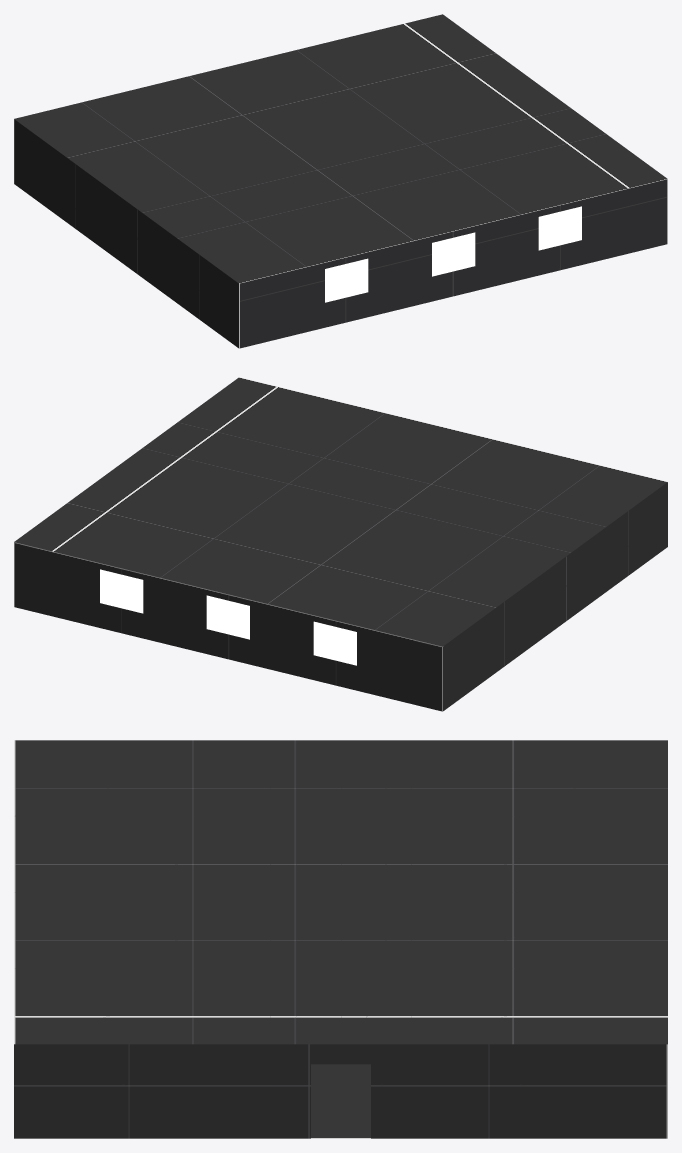
The model's file is nivel1.glb.
3 renders of one model, top to bottom at view 1: azimuth 30°, elevation 25°; view 2: azimuth 150°, elevation 25°; view 3: azimuth 270°, elevation 25°, orthographic. The views are drawn at different scales.
Parts seen in each view (by area): view 1: Cube; view 2: Cube; view 3: Cube.
Boxes of the visible parts, bbox=[...] form: Cube: bbox=[14, 14, 667, 348]; Cube: bbox=[14, 377, 667, 711]; Cube: bbox=[14, 740, 667, 1138].
Size of the model in its own units: 19.76 by 2.86 by 17.97.
Materials: 2 (1 with a texture image).
